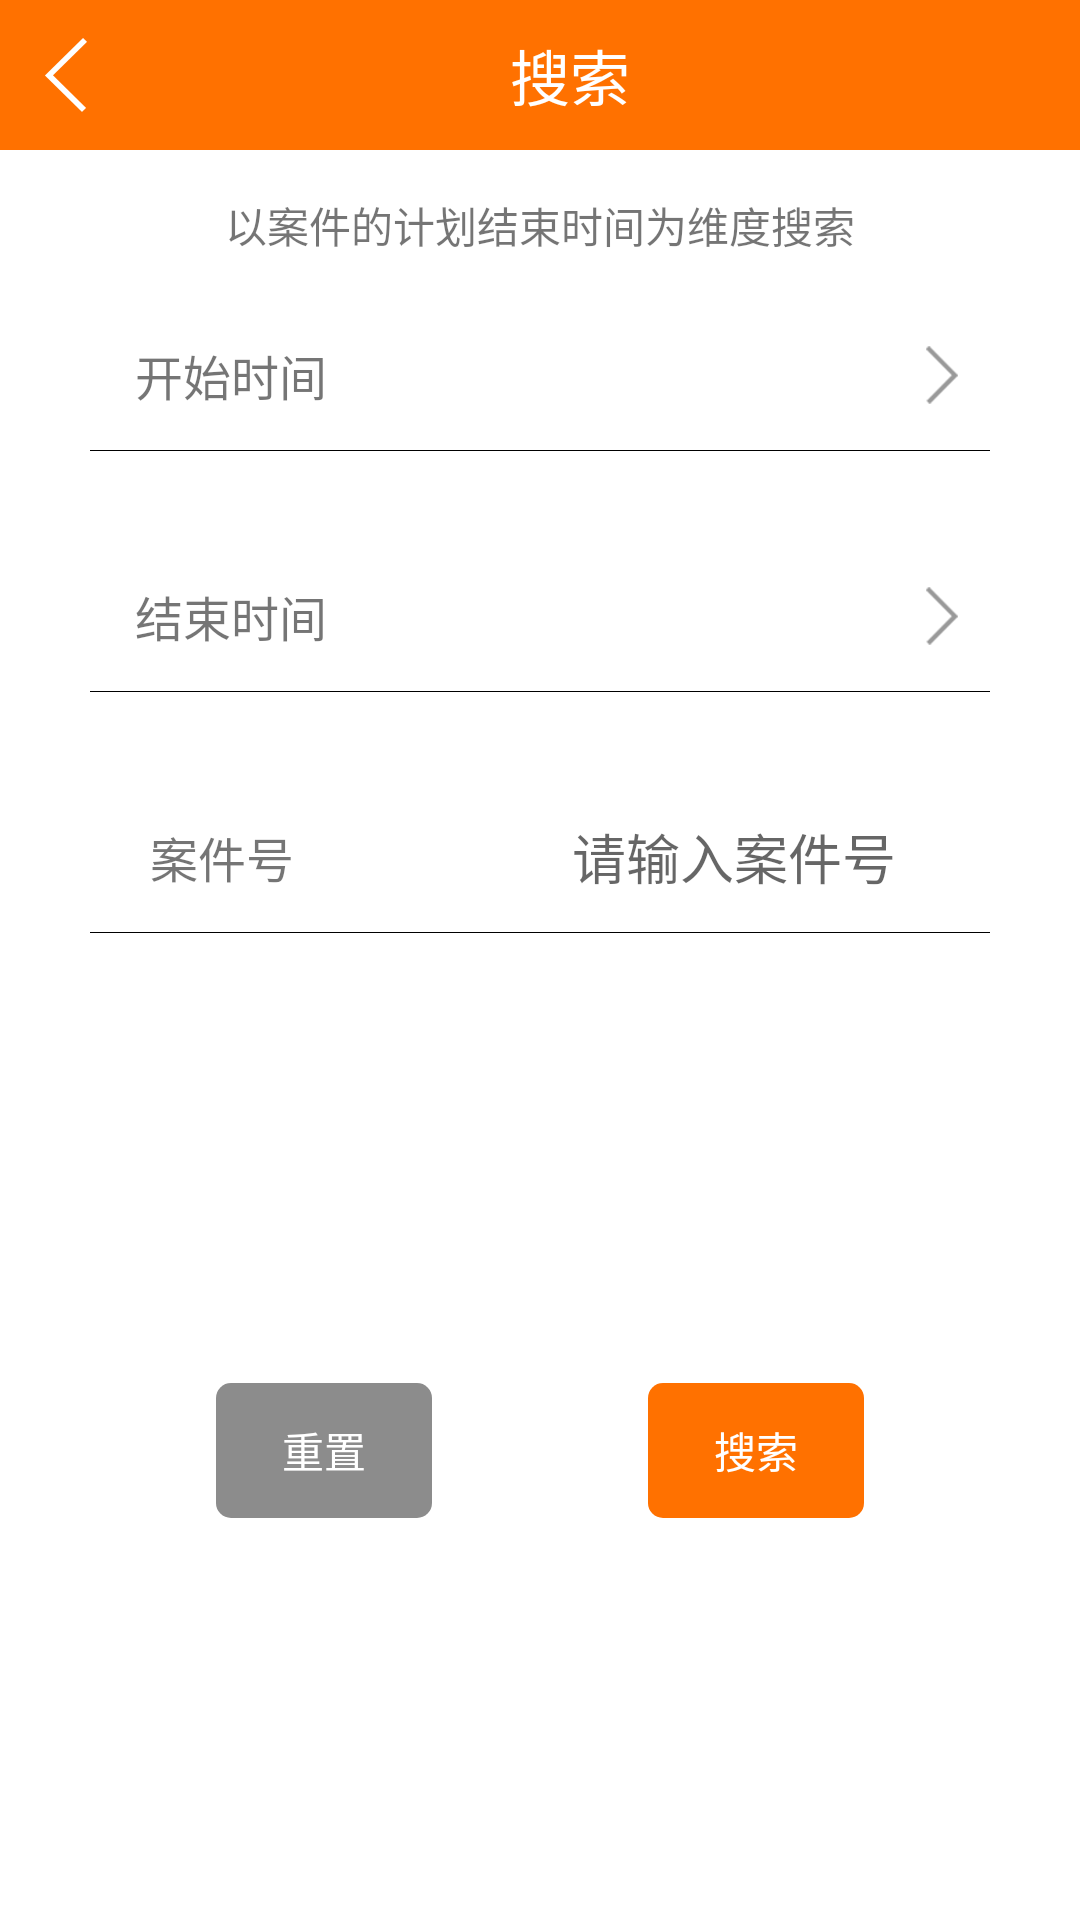

Icon click points for this 1080 × 1920 phone screenshot, format (x,y):
backl: (66,75)
search right back: (942,375), (942,616)
